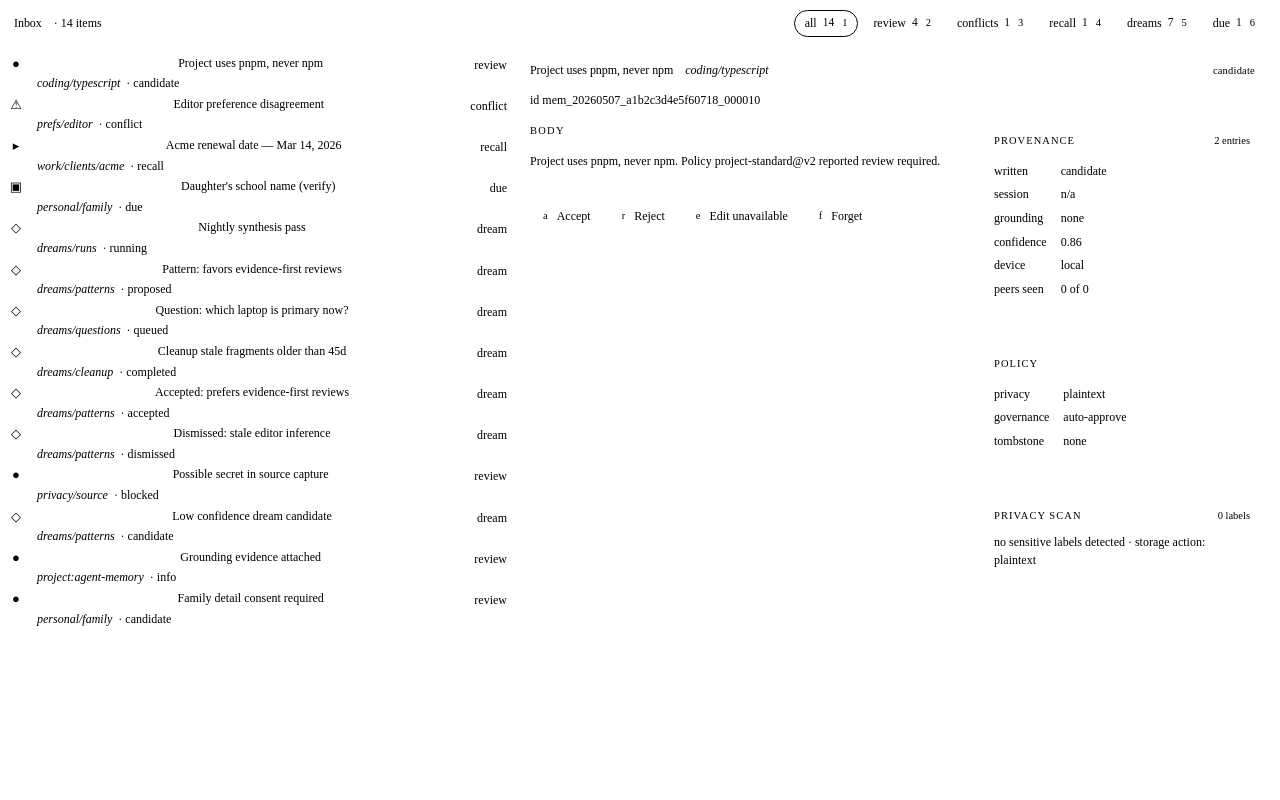
Scenario: Inbox view › renders the selected row through the shared Inspector
What coordinates should you click on to do the following:
click the option "Editor preference disagreement"
I would click on:
 (249, 104)
Its box is left=4, top=94, right=508, bottom=135.
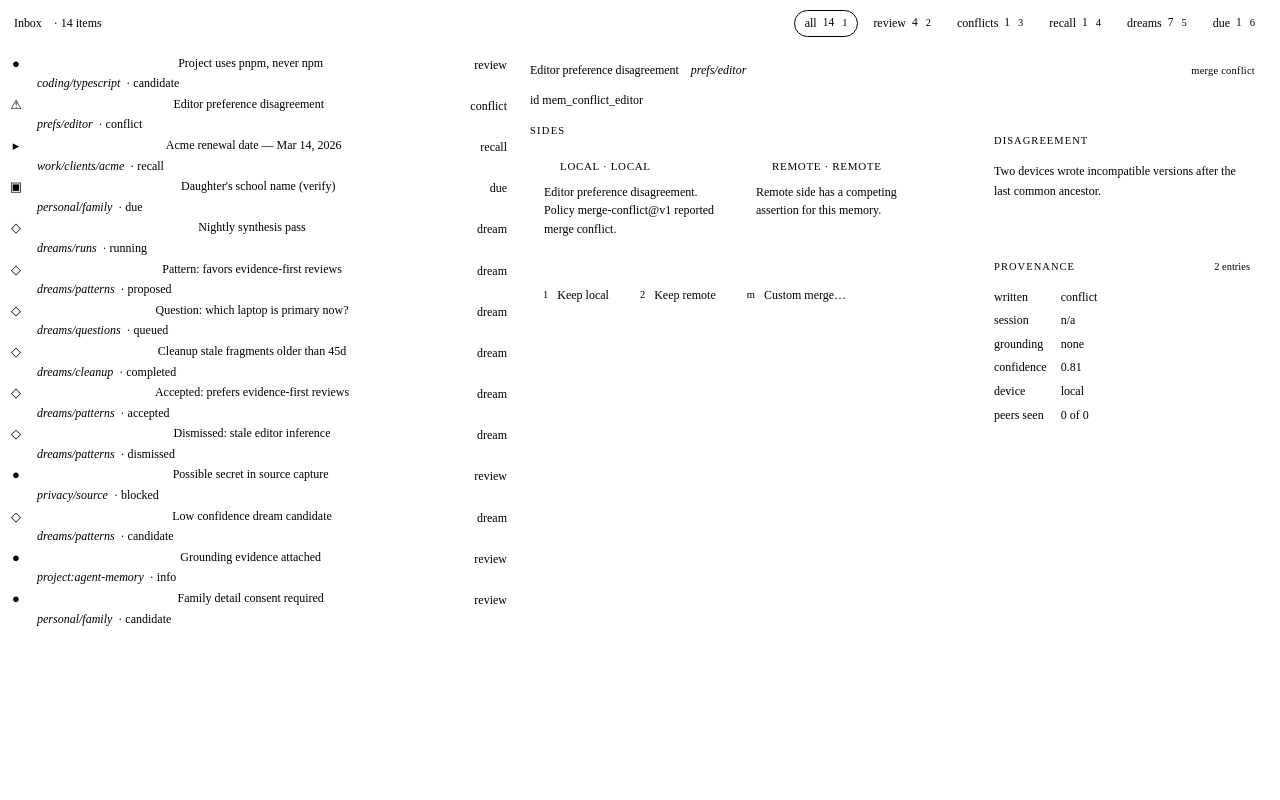
Now the element named "Inspector" shows "Editor preference disagreement", box left=530, top=63, right=679, bottom=77
Now the text "merge conflict" is shown, box left=1191, top=65, right=1255, bottom=76
